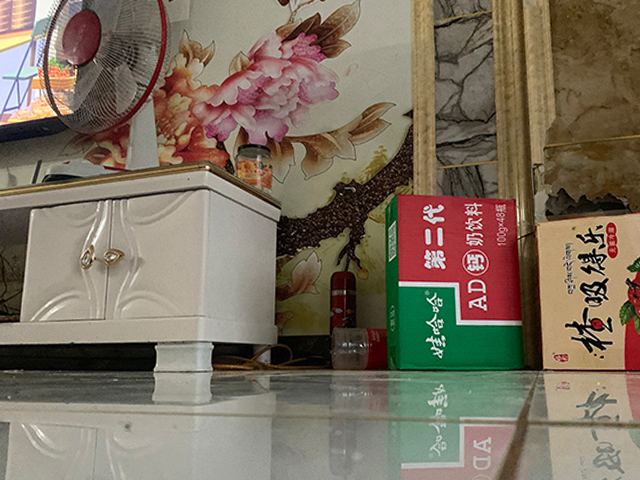cabinet: (1, 159, 283, 374)
wire: (212, 342, 333, 373)
